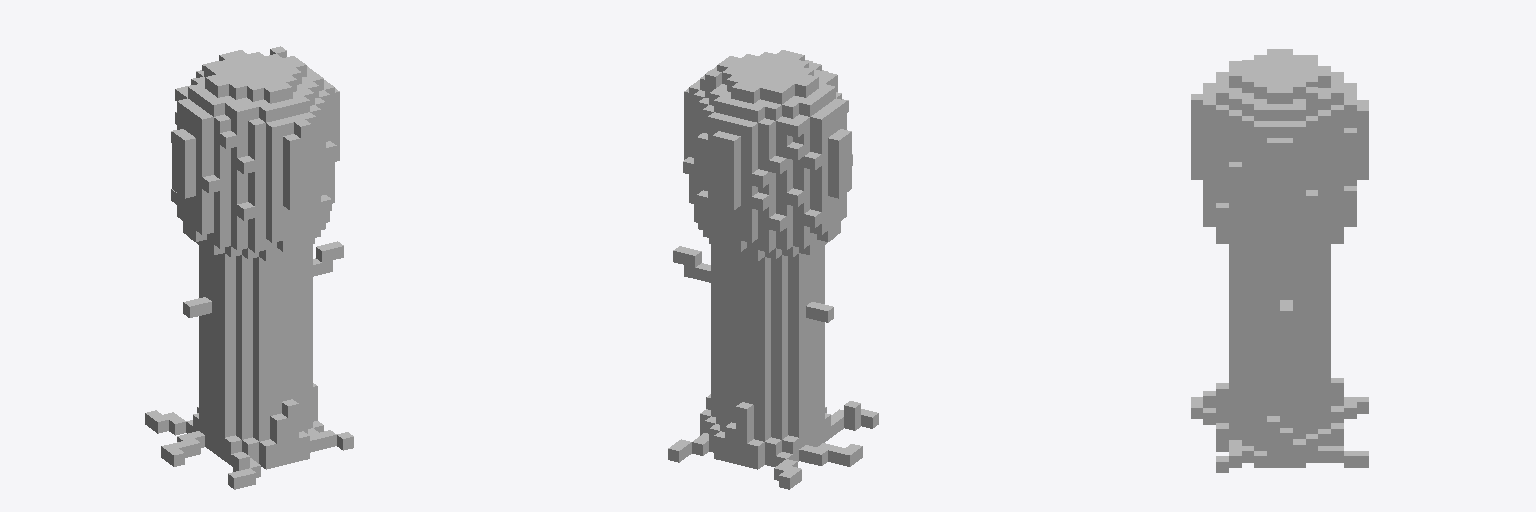
File: tree.obj
3 views of the same model, side by side, from view 1: azimuth 30°, elevation 25°; view 2: azimuth 150°, elevation 25°; view 3: azimuth 270°, elevation 25° (orthographic).
Bounding box in the file's own units: 16 × 32 × 14.